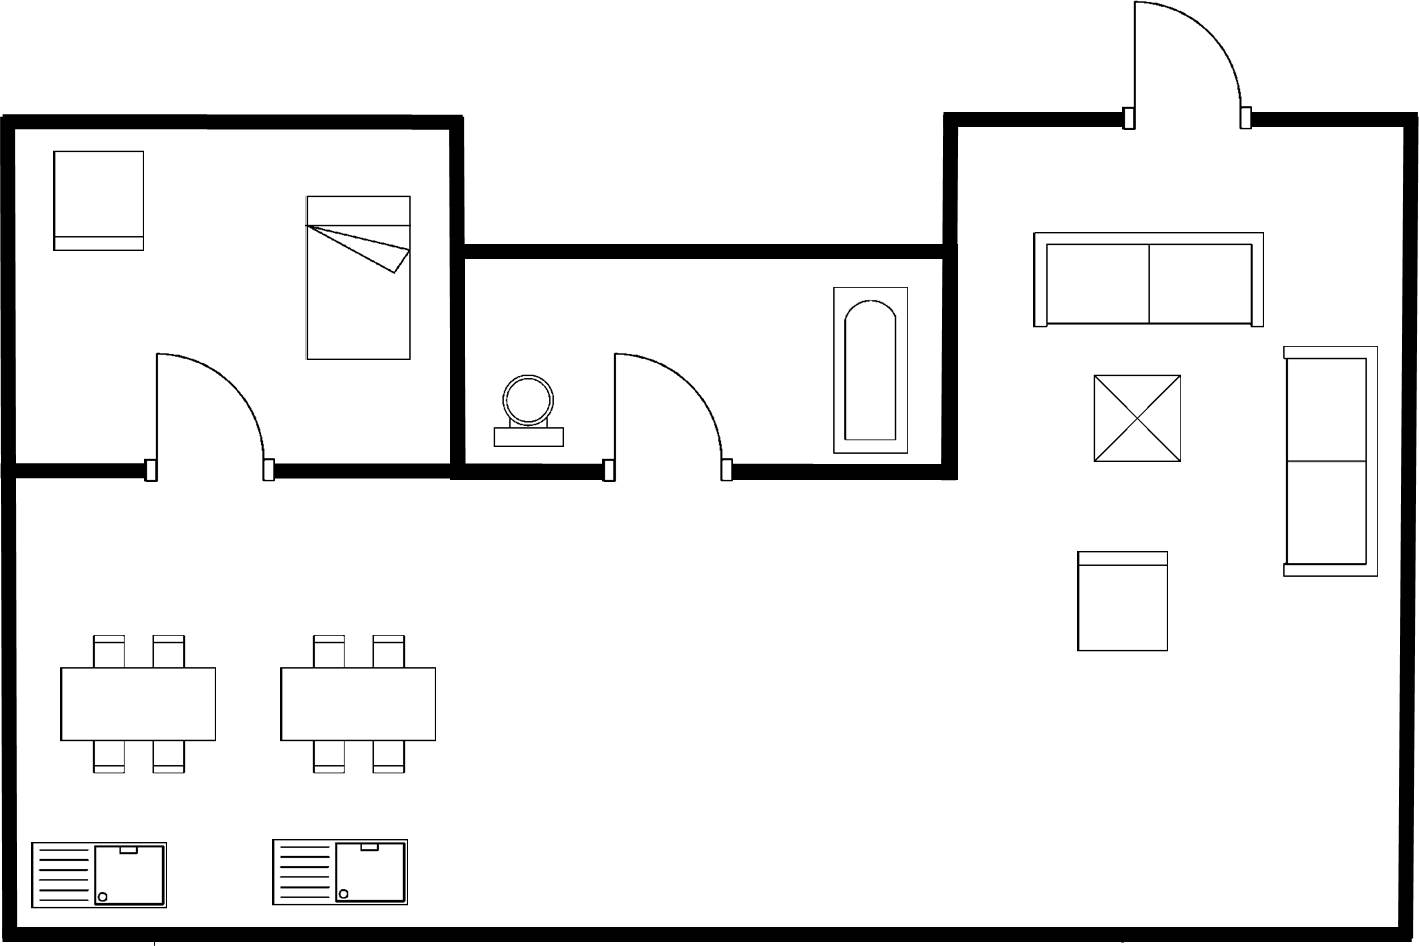bed: (301, 191, 419, 367)
coffee_table: (1086, 368, 1189, 471)
dining_table: (53, 630, 227, 780), (271, 629, 443, 778)
large_sink: (489, 368, 573, 455)
large_sofa: (1274, 340, 1384, 583), (1027, 226, 1269, 335), (1069, 544, 1179, 660)
sink: (26, 834, 176, 916), (267, 833, 415, 912)
small_sofa: (47, 144, 152, 256)
tub: (824, 280, 916, 458)
